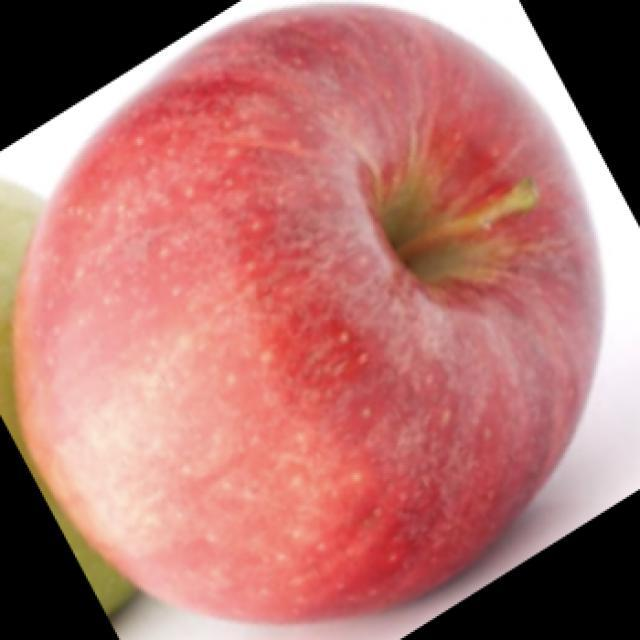Fresh Apple: (25, 20, 580, 607)
